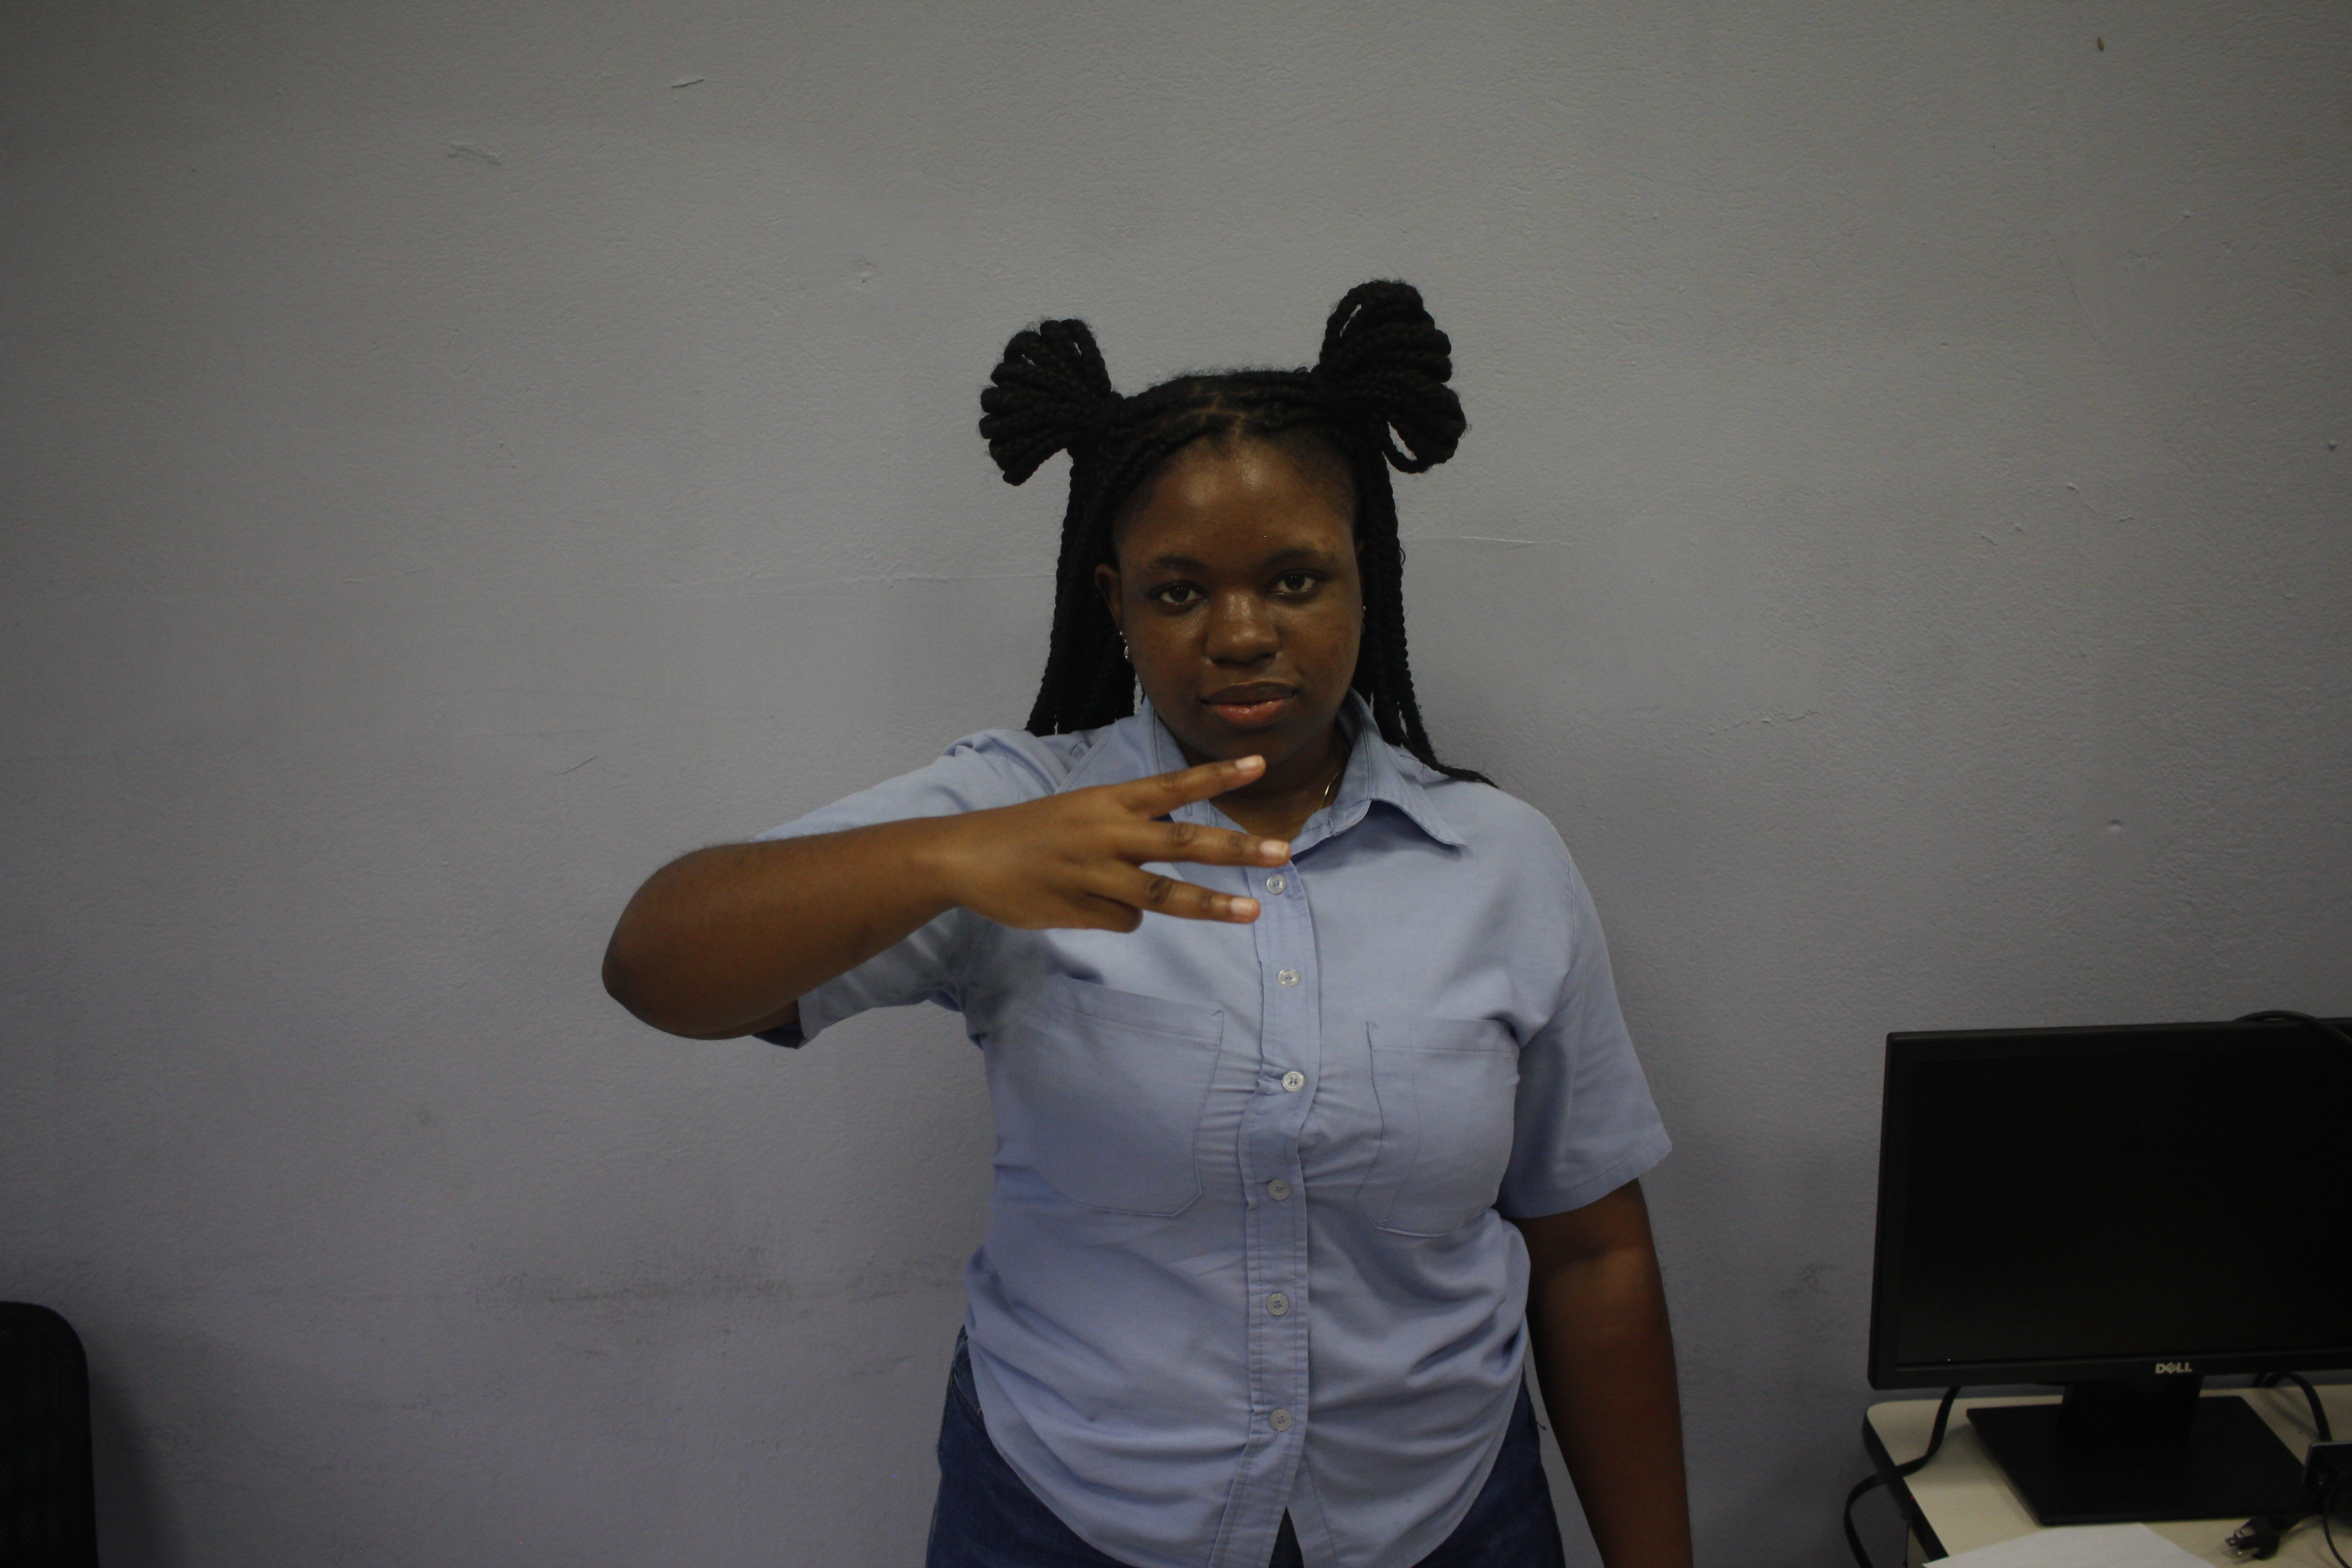you are welcome: (963, 738, 1298, 943)
